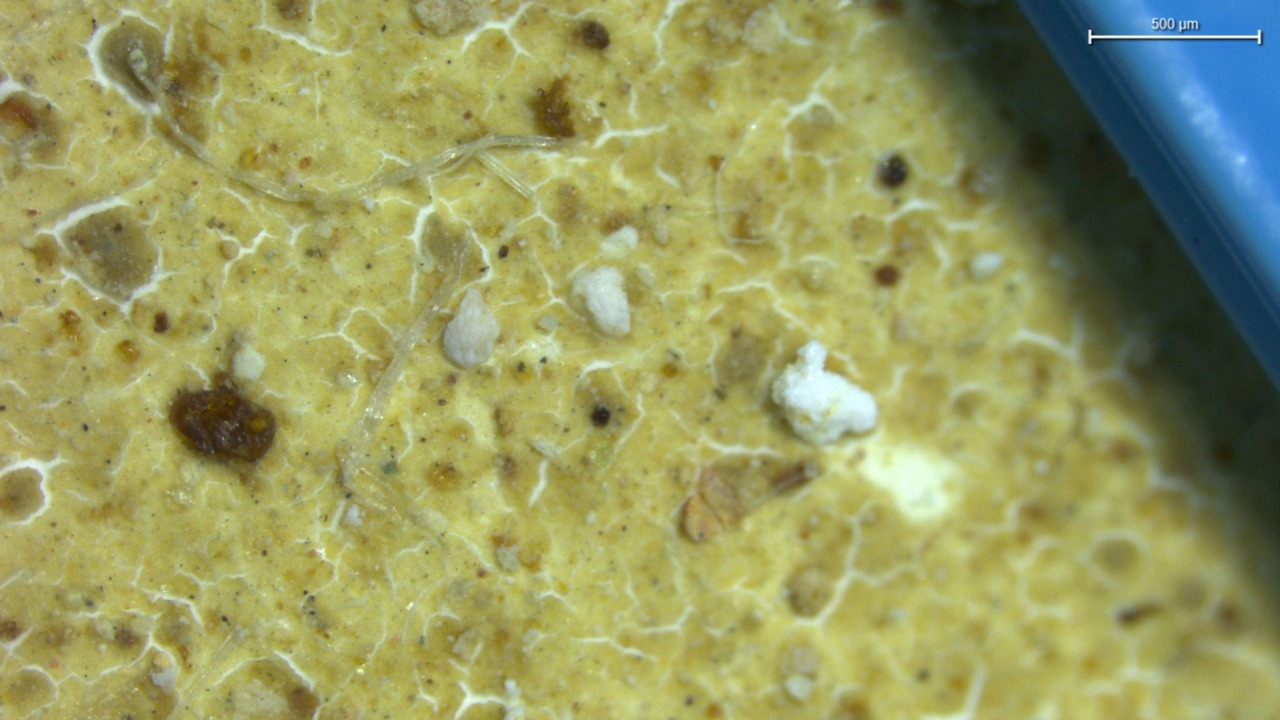microplastic_fragment: (772, 342, 878, 444), (169, 385, 276, 462), (443, 288, 499, 368), (573, 266, 630, 337)
